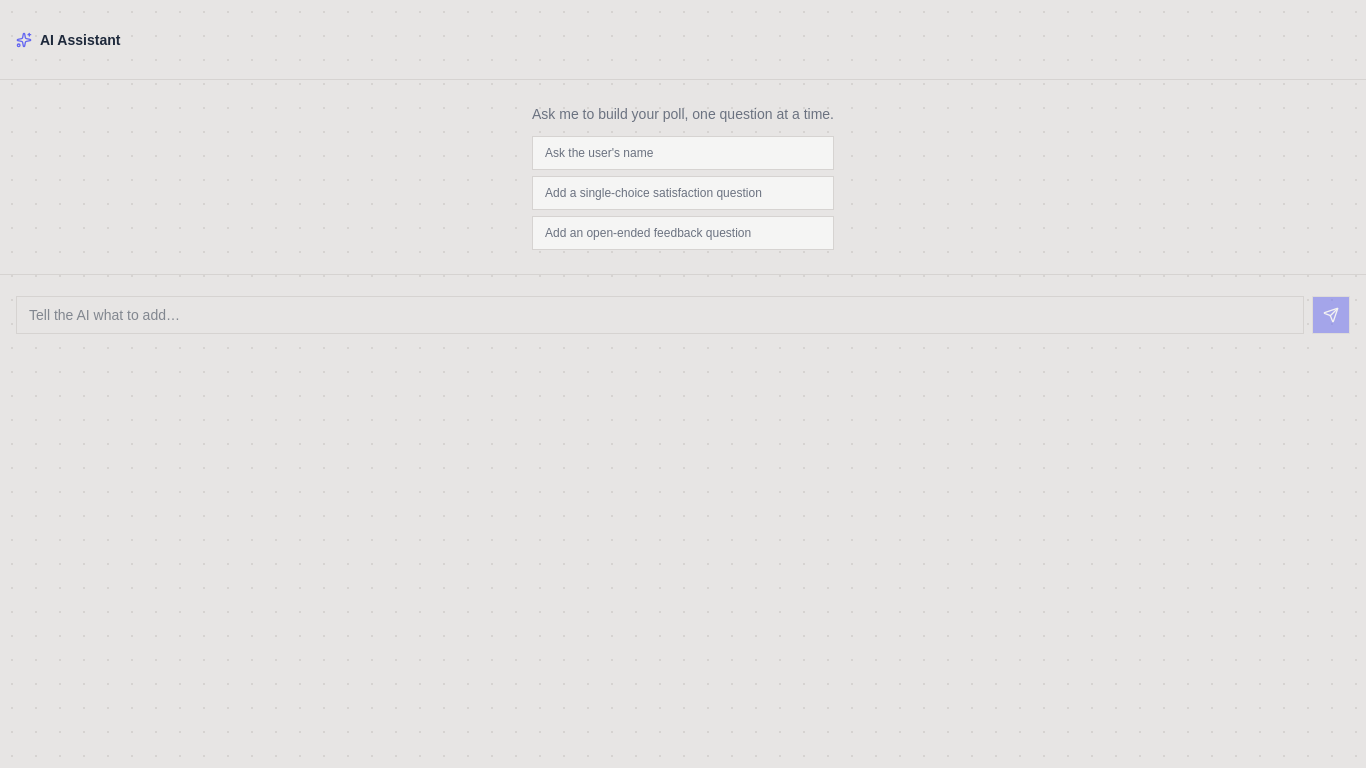
it: BuilderChatPanel › sends the message + builder state and forwards actions to the builder
Type "add a name question" into the text box with placeholder "Tell the AI what to add…" at point(660, 314), box left=16, top=296, right=1304, bottom=334
Then press Enter
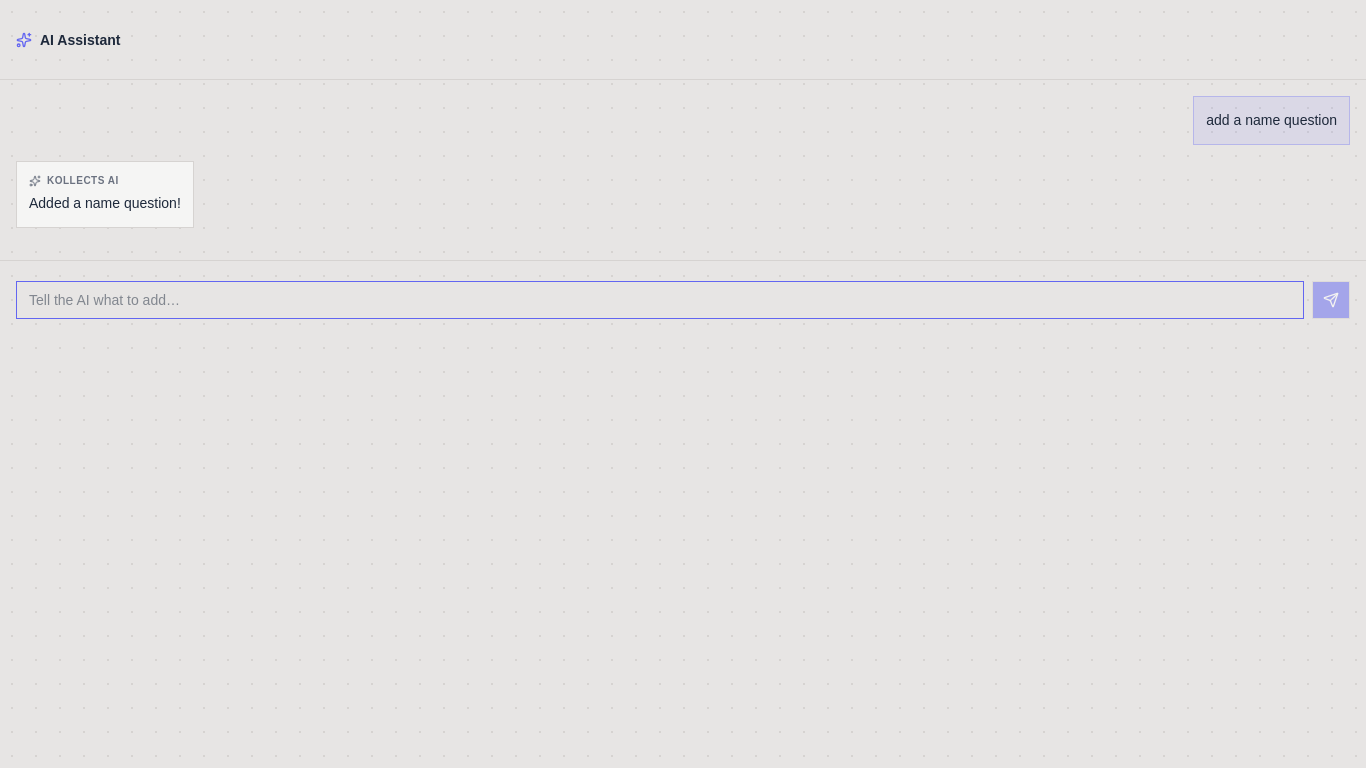
Expected: the text "Added a name question!" is shown, left=29, top=192, right=181, bottom=215
